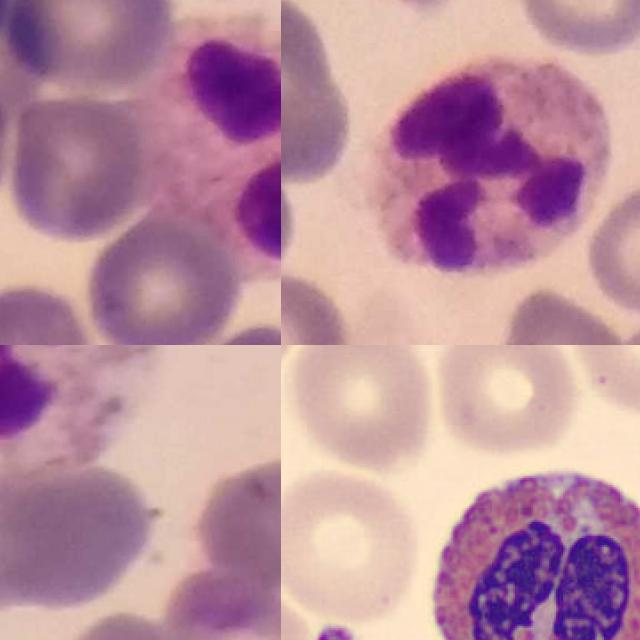Eosinophil: (408, 448, 640, 640)
Neutrophil: (362, 57, 611, 276), (135, 16, 281, 269), (0, 345, 160, 481)
Platelets: (308, 621, 362, 640)
RBC: (281, 464, 428, 626), (282, 345, 438, 474), (429, 345, 584, 456), (563, 345, 640, 416)
